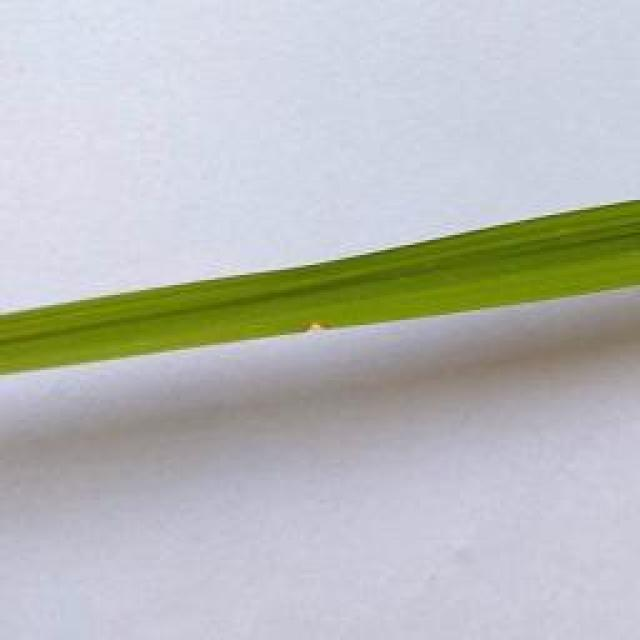Unhealthy: (299, 321, 331, 332)
